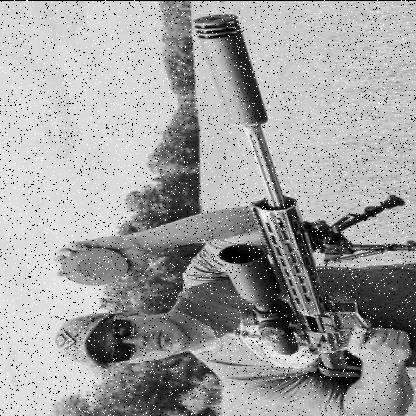rifle: (174, 22, 415, 363)
